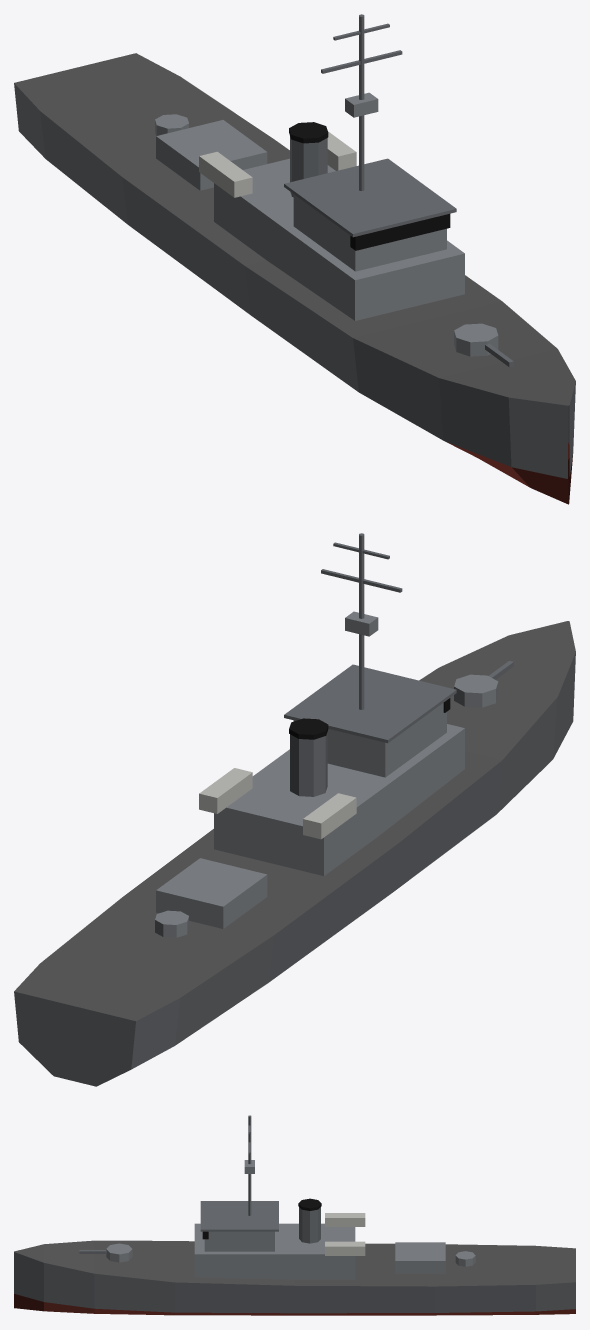
The model's file is tau-hq-pce.glb.
3 renders of one model, top to bottom at view 1: azimuth 30°, elevation 25°; view 2: azimuth 150°, elevation 25°; view 3: azimuth 270°, elevation 25°, orthographic. The views are drawn at different scales.
Parts seen in each view (by area): view 1: TauHQ; view 2: TauHQ; view 3: TauHQ.
Part boxes in pixels (x1,y1,x2,y2): TauHQ: [14, 14, 575, 504]; TauHQ: [14, 533, 575, 1086]; TauHQ: [14, 1115, 575, 1315].
Bounding box in the file's own units: 10.1 × 21.1 × 56.
